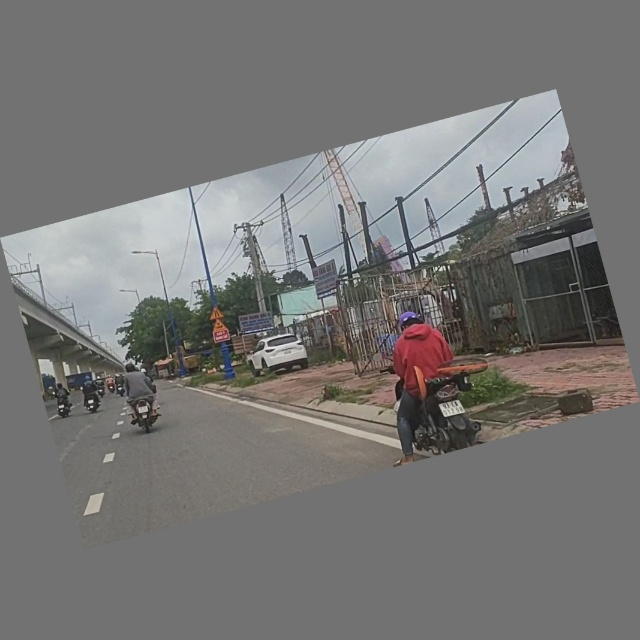W.203c: (206, 304, 226, 322)
W.245a: (209, 318, 228, 334)
